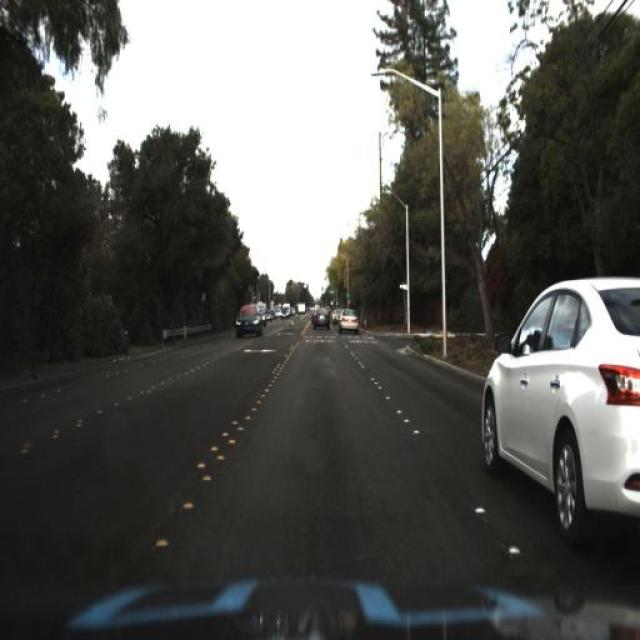car: (473, 266, 635, 540), (233, 301, 261, 343), (336, 302, 362, 338), (310, 303, 332, 333)
